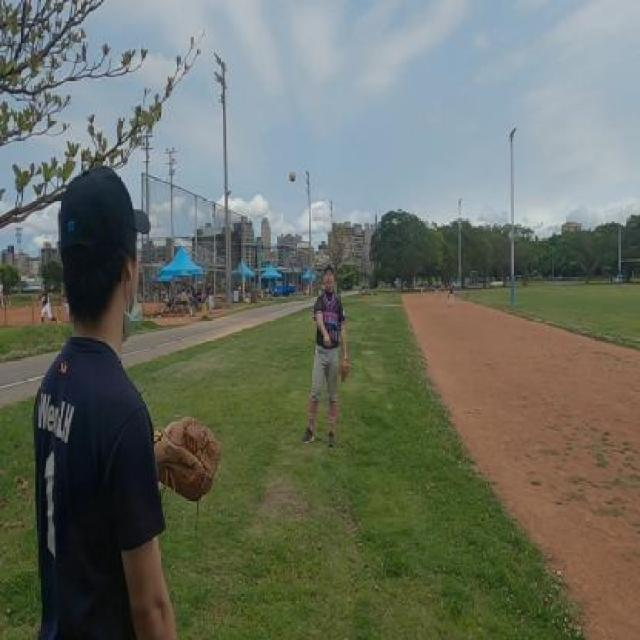baseball: (289, 170, 296, 182)
